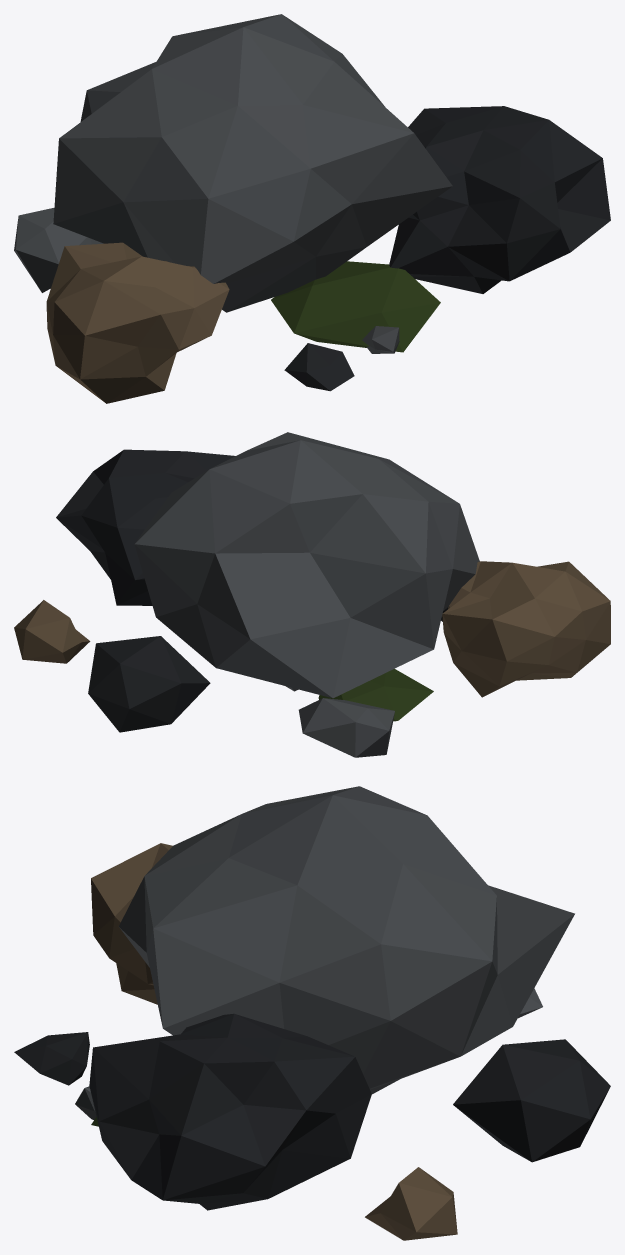
File: low-poly-rocks.obj
The picture shows the model from 3 angles, top to bottom: view 1: azimuth 30°, elevation 25°; view 2: azimuth 150°, elevation 25°; view 3: azimuth 270°, elevation 25°; orthographic projection. The views are drawn at different scales.
Parts seen in each view (by area): view 1: boulder_hero, rock_1, rock_2, moss_patch_1, rock_4, pebble_6, pebble_7; view 2: boulder_hero, rock_2, rock_1, rock_3, rock_4, pebble_5, moss_patch_2; view 3: boulder_hero, rock_1, rock_3, rock_2, pebble_5, pebble_6.
Boxes of the visible parts, left/top/right/bottom form: boulder_hero: left=53, top=14, right=452, bottom=312; rock_1: left=389, top=106, right=610, bottom=293; rock_2: left=46, top=242, right=229, bottom=403; moss_patch_1: left=271, top=261, right=440, bottom=352; rock_4: left=14, top=208, right=103, bottom=292; pebble_6: left=284, top=343, right=354, bottom=391; pebble_7: left=362, top=326, right=399, bottom=353; boulder_hero: left=134, top=432, right=479, bottom=698; rock_2: left=442, top=561, right=610, bottom=697; rock_1: left=56, top=449, right=235, bottom=605; rock_3: left=88, top=636, right=210, bottom=732; rock_4: left=298, top=698, right=394, bottom=757; pebble_5: left=14, top=600, right=90, bottom=663; moss_patch_2: left=318, top=669, right=433, bottom=721; boulder_hero: left=118, top=786, right=574, bottom=1094; rock_1: left=89, top=1013, right=371, bottom=1210; rock_3: left=453, top=1039, right=610, bottom=1162; rock_2: left=91, top=843, right=172, bottom=1004; pebble_5: left=365, top=1167, right=457, bottom=1240; pebble_6: left=14, top=1032, right=89, bottom=1085.
Bounding box in the file's own units: 2.01 × 0.966 × 1.65.
